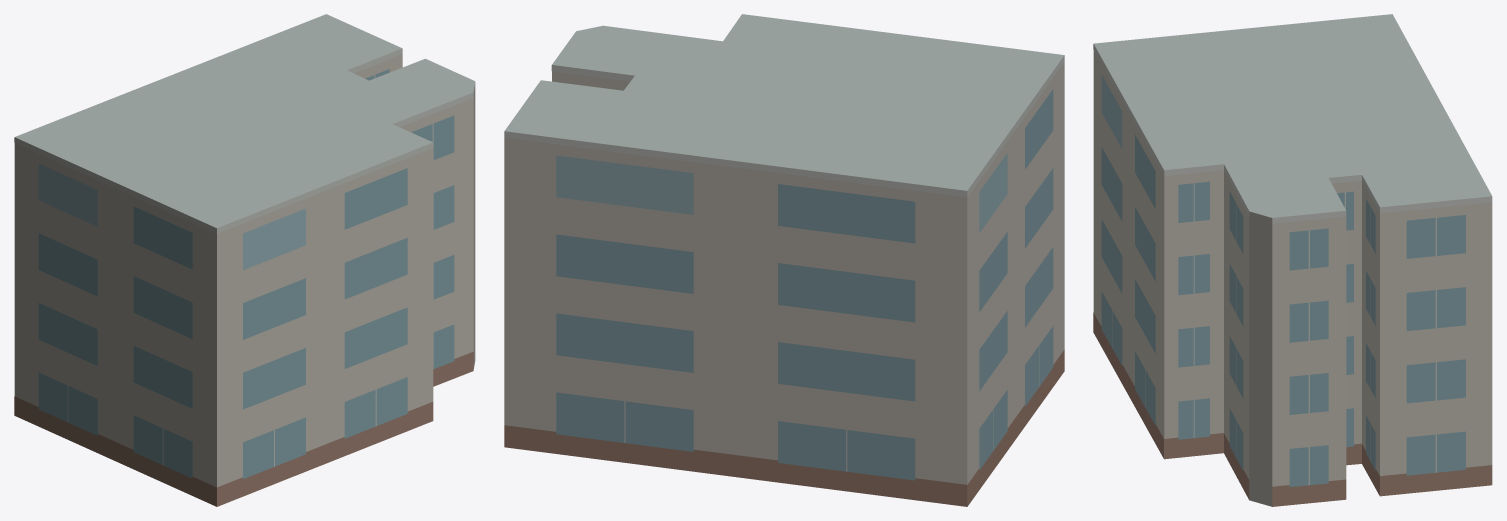
The model's file is survey-upis-32807631.glb.
3 renders of one model, left to right at view 1: azimuth 30°, elevation 25°; view 2: azimuth 150°, elevation 25°; view 3: azimuth 270°, elevation 25°, orthographic. The views are drawn at different scales.
Parts seen in each view (by area): view 1: survey-upis-32807631.tmp; view 2: survey-upis-32807631.tmp; view 3: survey-upis-32807631.tmp.
Boxes of the visible parts, <box> form: survey-upis-32807631.tmp: <box>14,14,475,506</box>; survey-upis-32807631.tmp: <box>504,14,1064,506</box>; survey-upis-32807631.tmp: <box>1093,14,1492,506</box>.
Bounding box in the file's own units: 18.02 × 11.9 × 14.9.
